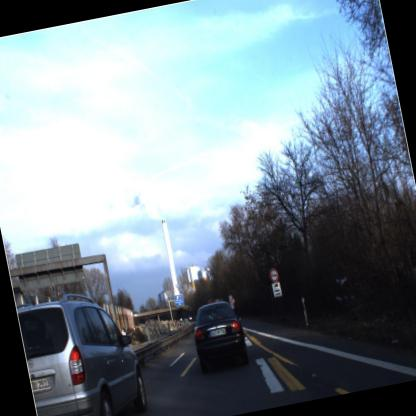prohibitory: (264, 262, 282, 288)
